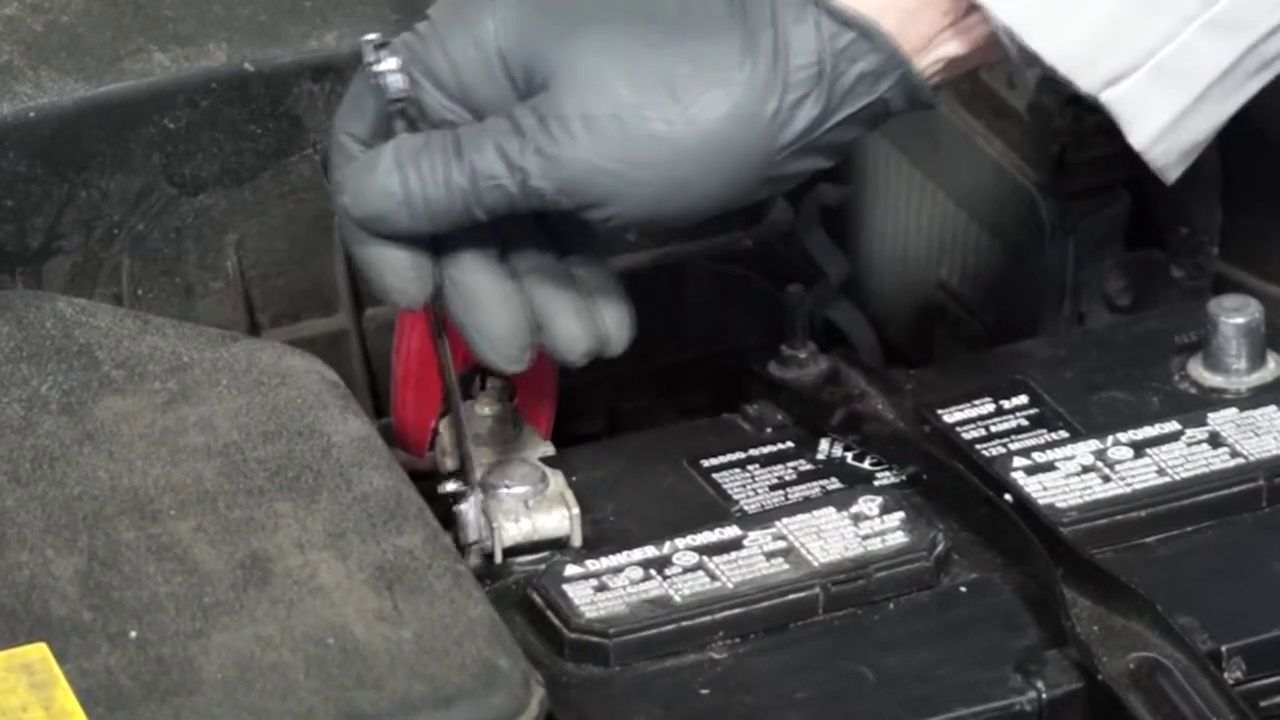battery: (418, 275, 1280, 706)
neg_disconnected: (1134, 261, 1280, 414)
pos_connected: (409, 325, 589, 577)
pos_touched: (355, 234, 626, 589)
